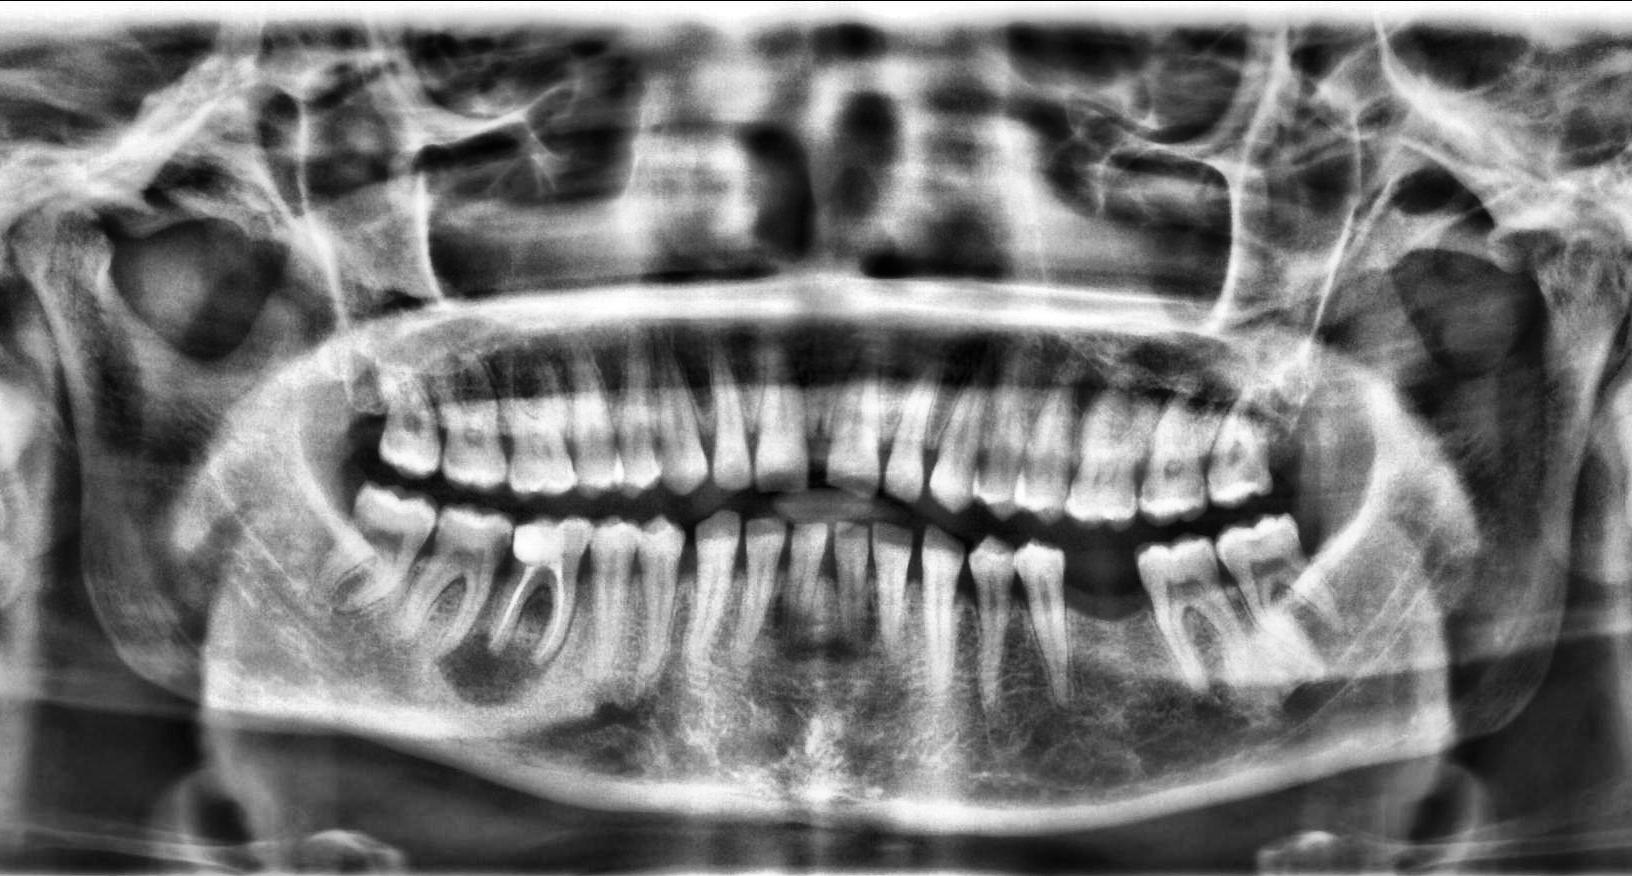radicular: (431, 628, 553, 711)
